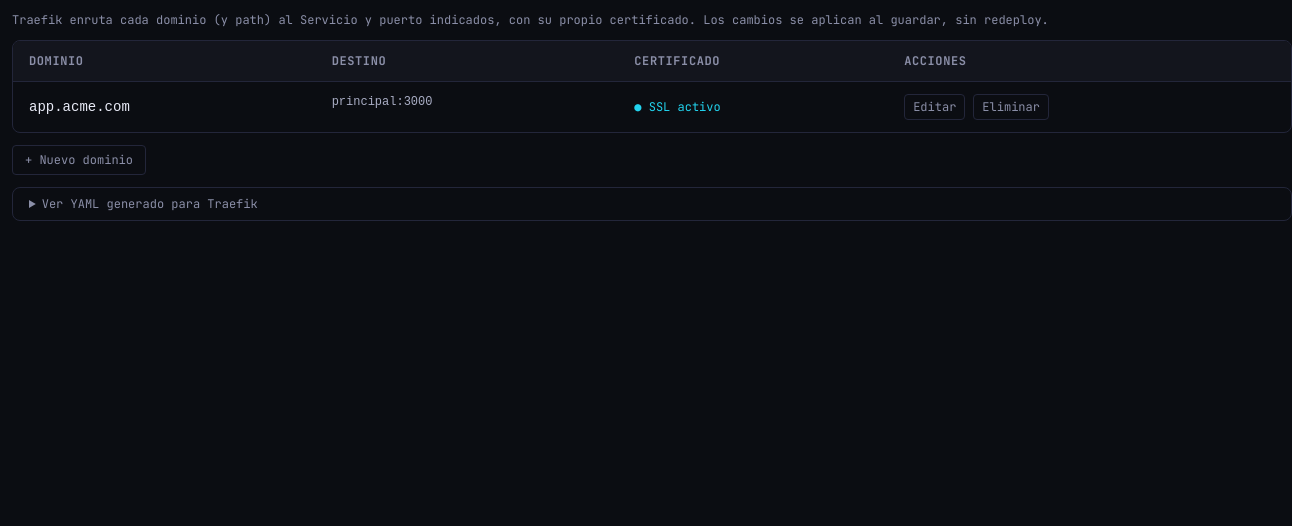
Test case: DominiosPanel — alta y edición › avisa de que una ruta a un Servicio sin alias funcionará tras el próximo deploy
Click the button "+ Nuevo dominio". click: (79, 160)
box: [12, 145, 146, 175]
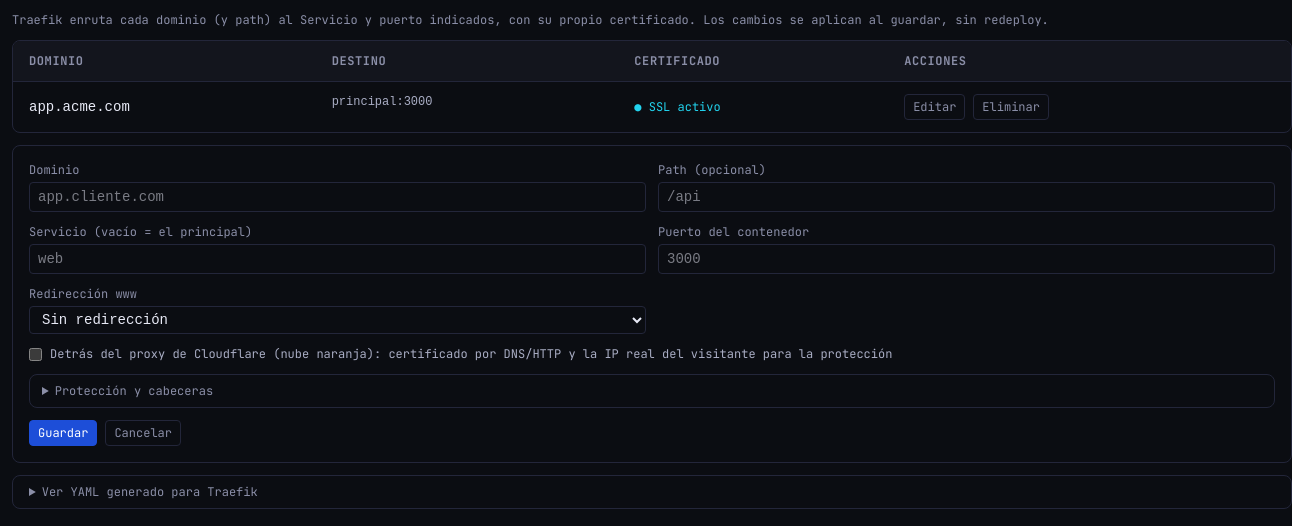
Type "api.acme.com" into the field labelled "Dominio". click: (338, 197)
box: [29, 182, 646, 212]
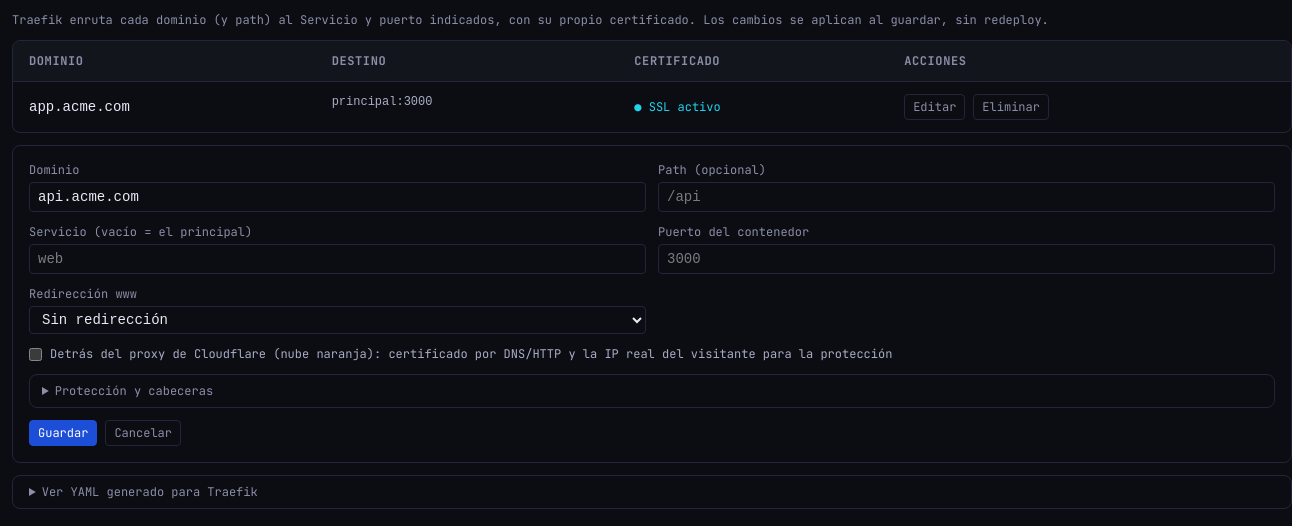
Type "api" into the field labelled "Servicio (vacío = el principal)". click: (338, 259)
box: [29, 244, 646, 274]
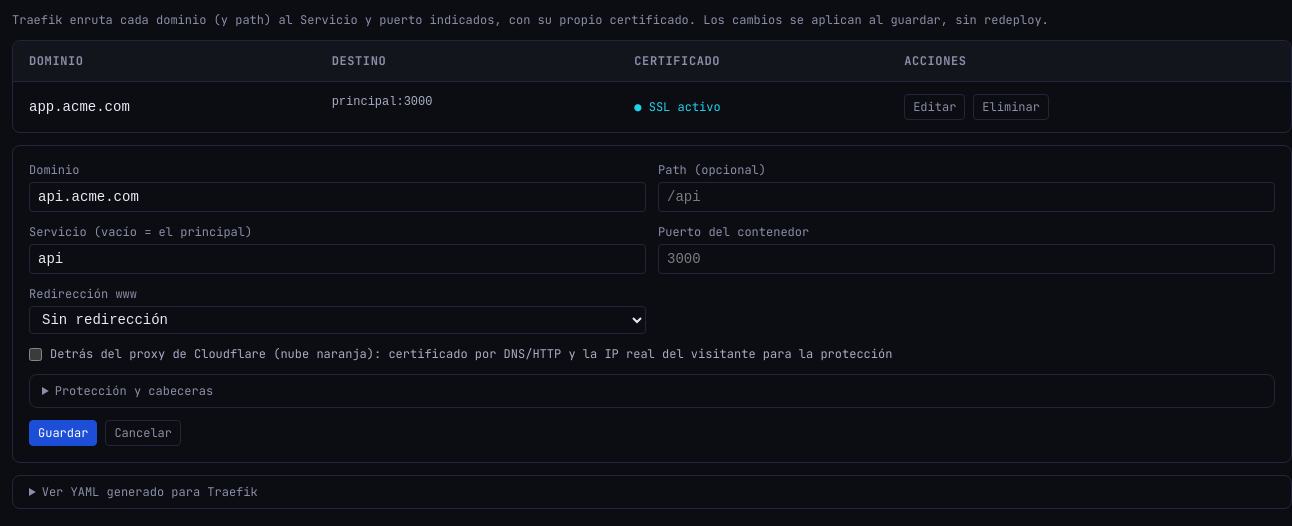
Click the button "Guardar". click: (63, 433)
box: [29, 420, 97, 446]
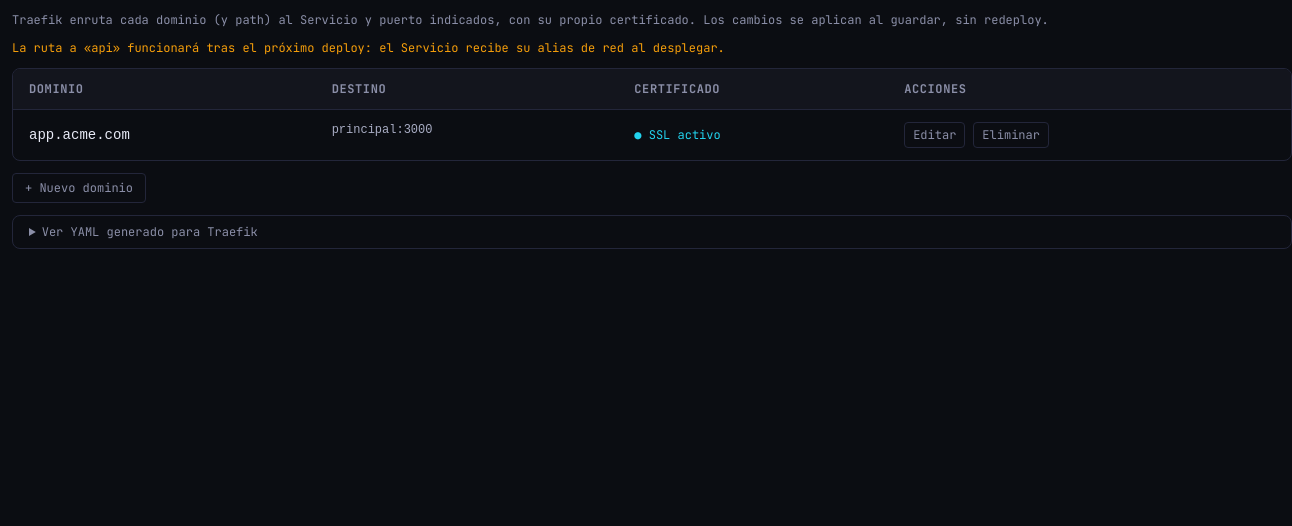
Now the message shows "«api» funcionará tras el próximo deploy", box [12, 40, 725, 56]
